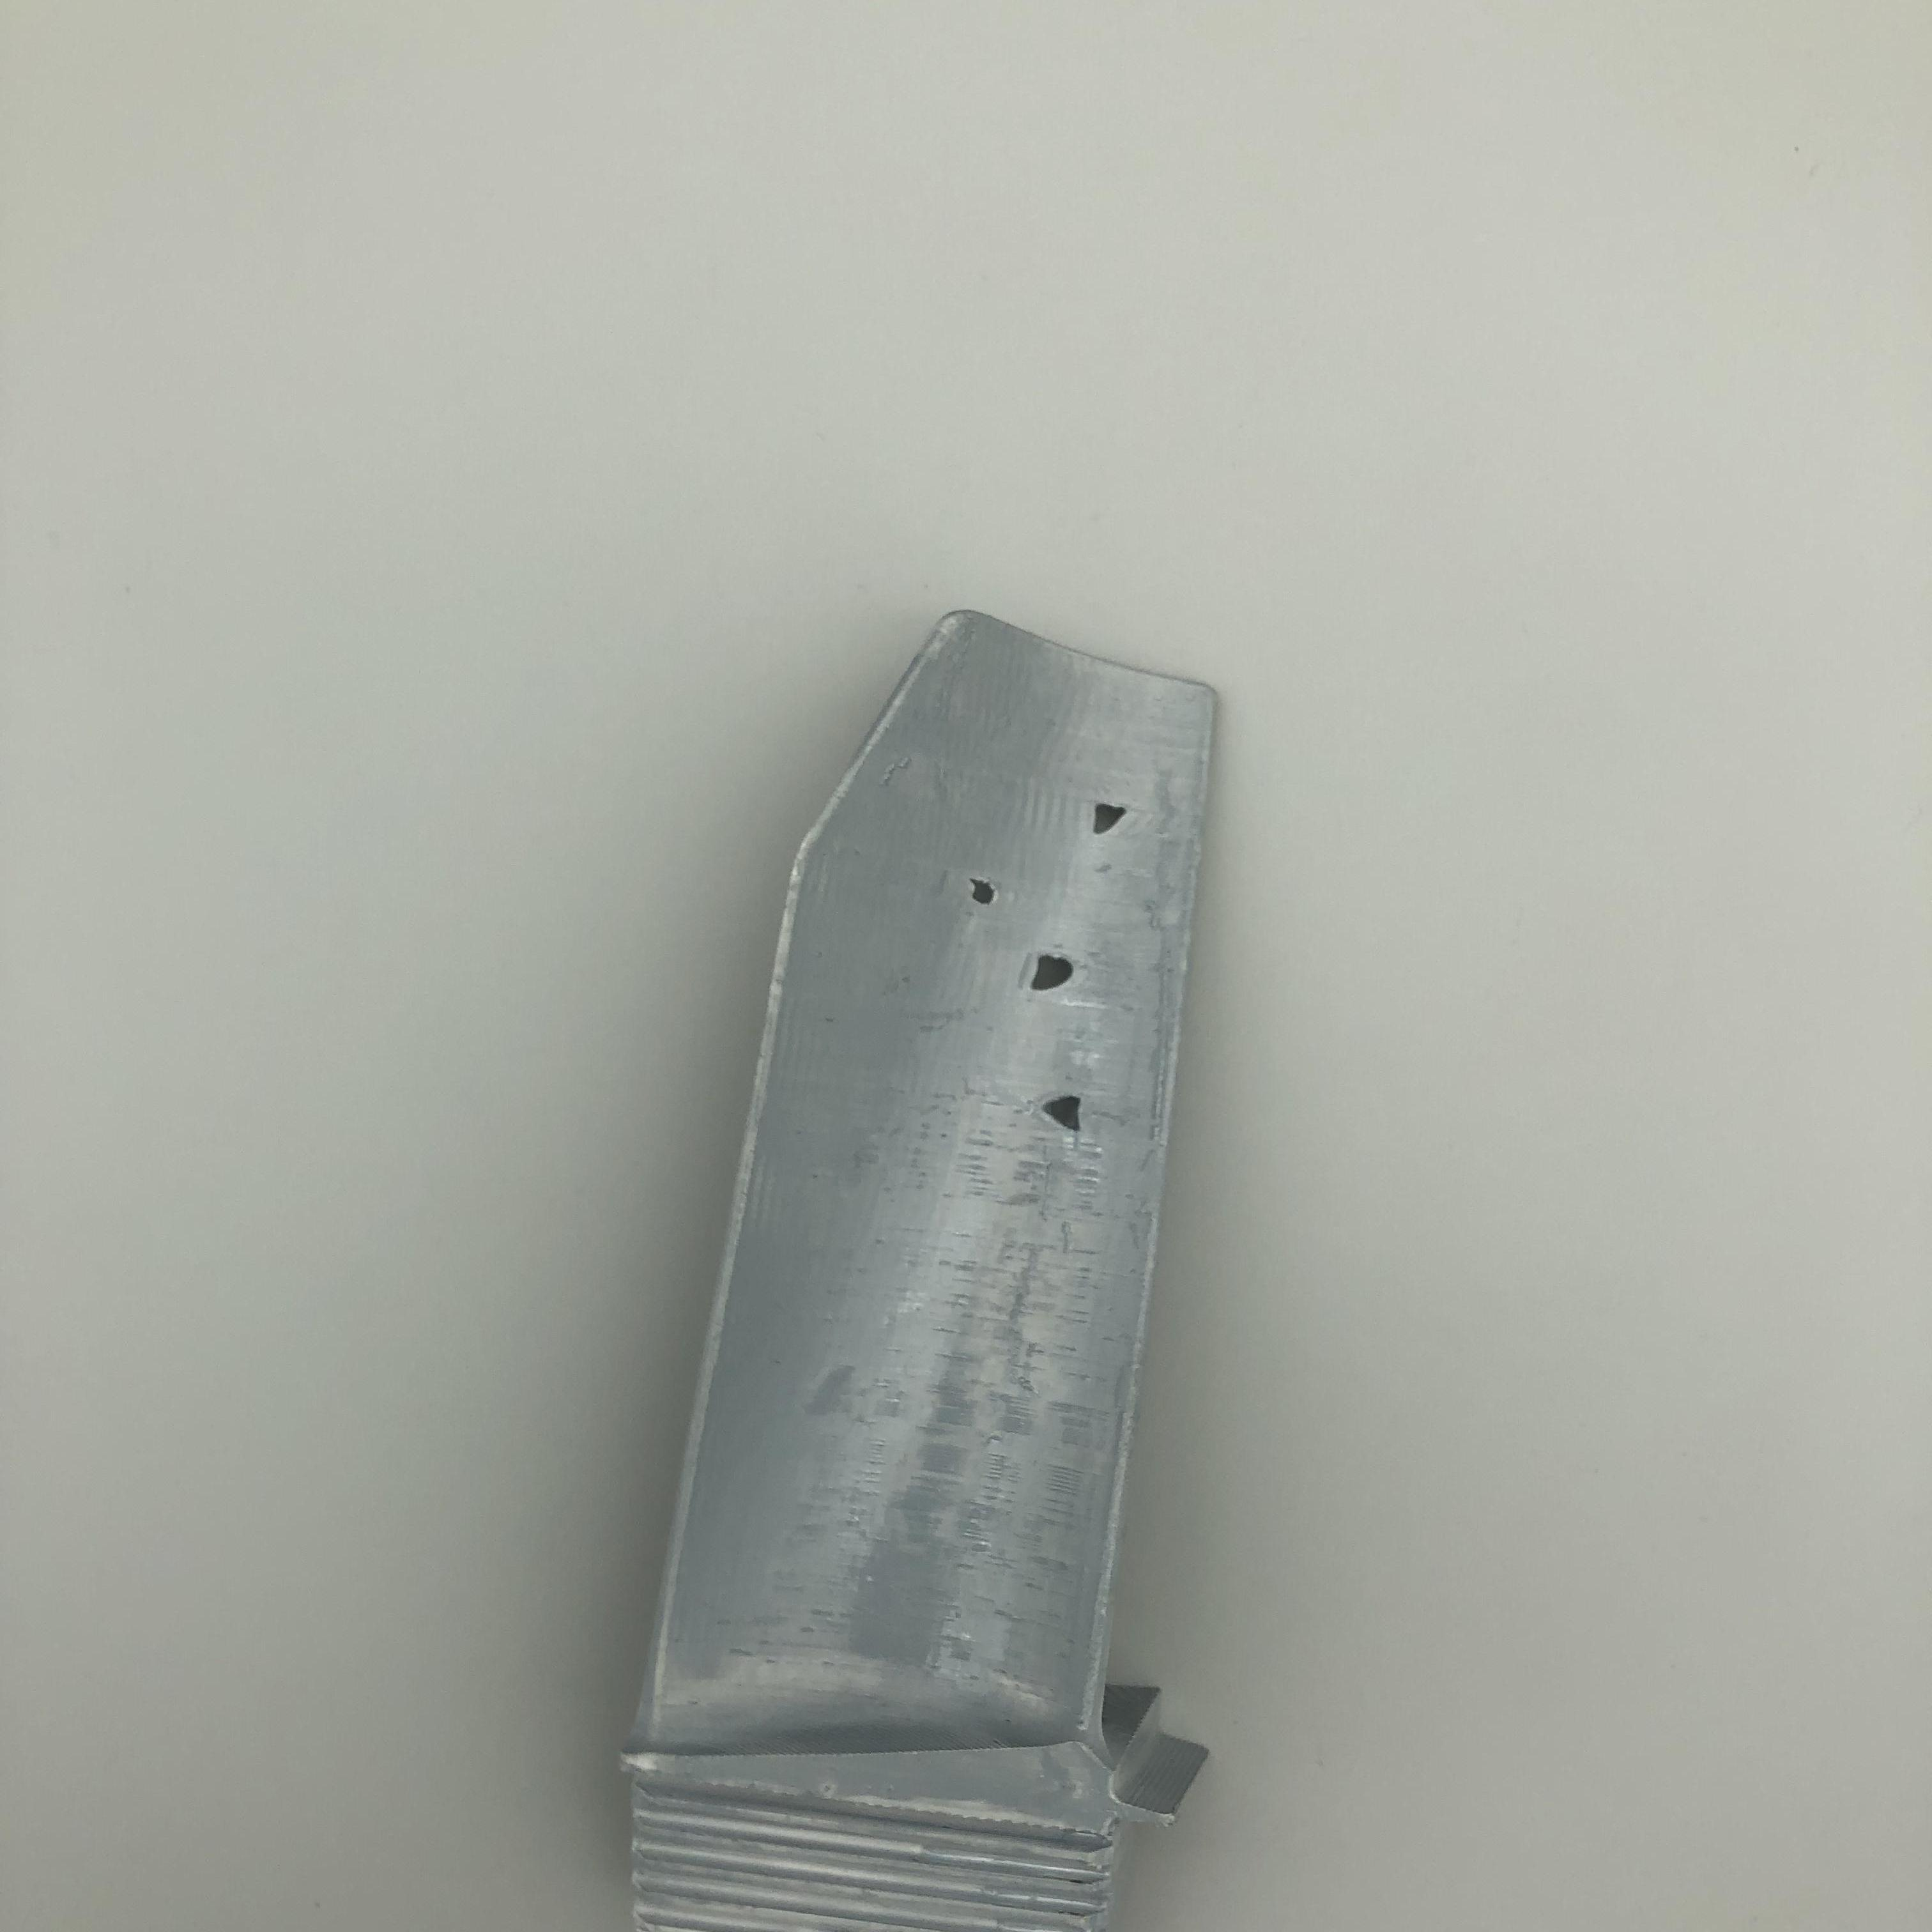breakdown: (966, 786, 1145, 1159)
